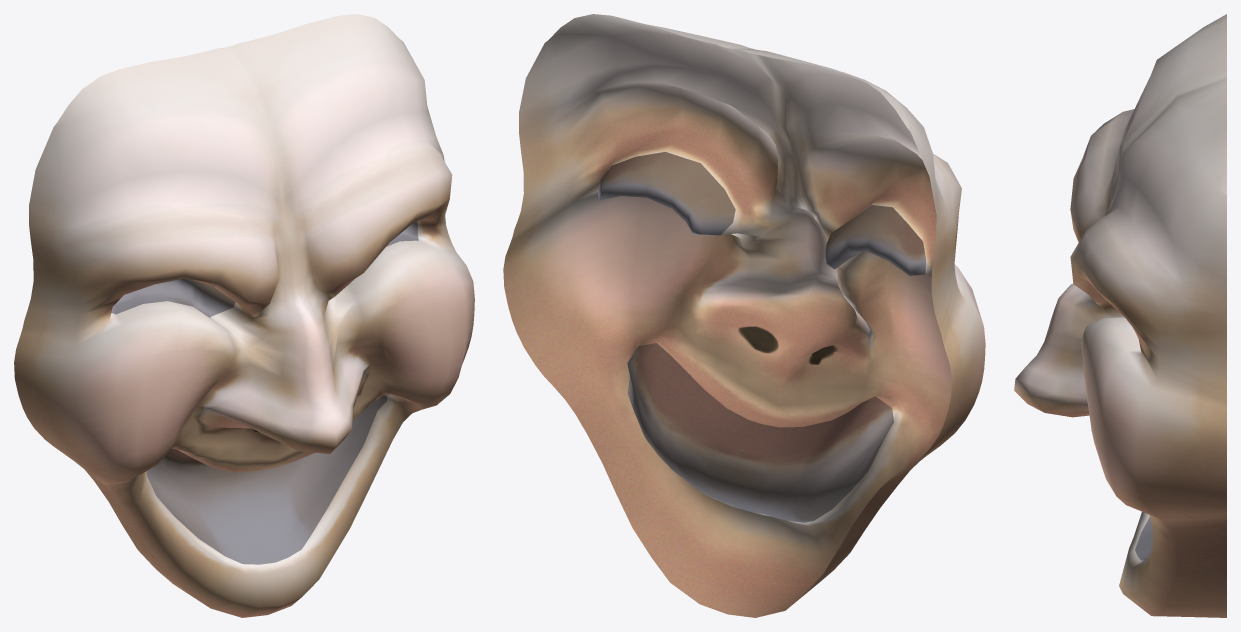
File: ComedyMask.fbx
3 views of the same model, side by side, from view 1: azimuth 30°, elevation 25°; view 2: azimuth 150°, elevation 25°; view 3: azimuth 270°, elevation 25° (orthographic). The views are drawn at different scales.
Visible parts, largest first — view 1: ComedyMask; view 2: ComedyMask; view 3: ComedyMask.
Part boxes in pixels (bbox=[...]): ComedyMask: bbox=[14, 14, 474, 617]; ComedyMask: bbox=[503, 14, 985, 617]; ComedyMask: bbox=[1014, 14, 1226, 617].
Bounding box in the file's own units: 124 × 151 × 54.49.
